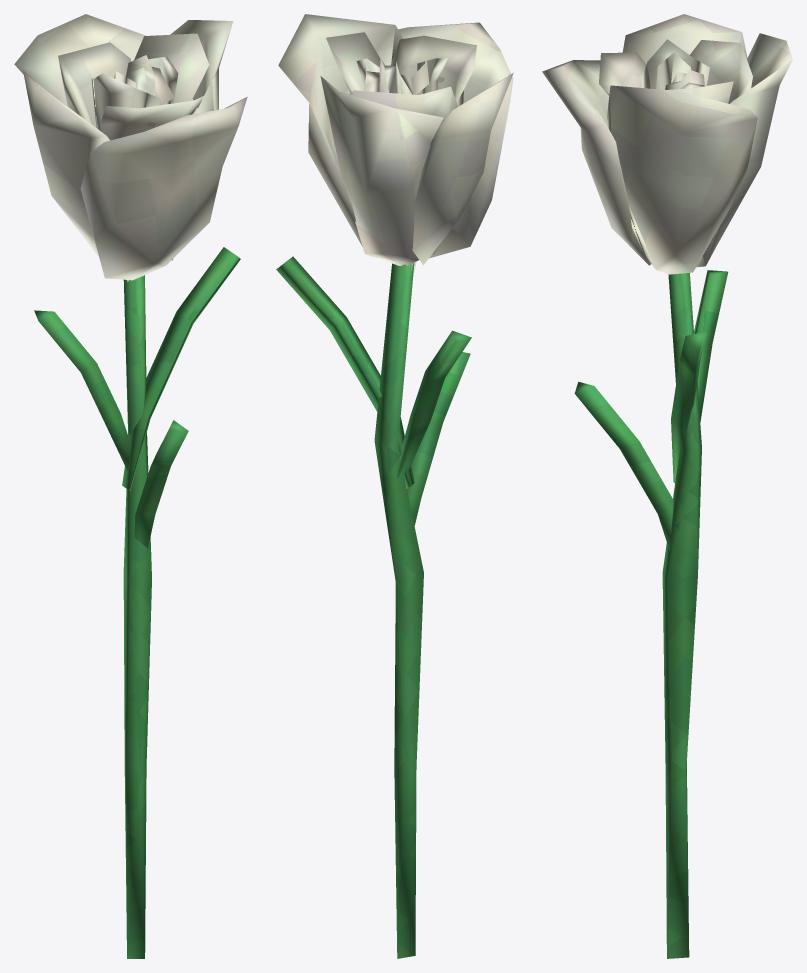
Rendered from white_tulip.fbx.
3 views of the same model, side by side, from view 1: azimuth 30°, elevation 25°; view 2: azimuth 150°, elevation 25°; view 3: azimuth 270°, elevation 25° (orthographic).
Visible parts, largest first — view 1: white_tulip; view 2: white_tulip; view 3: white_tulip.
Part boxes in pixels (x1=…): white_tulip: x1=14, y1=14, x2=247, y2=958; white_tulip: x1=276, y1=14, x2=513, y2=958; white_tulip: x1=542, y1=14, x2=792, y2=958.
Size of the model in its own units: 15.26 by 62.28 by 15.5.
